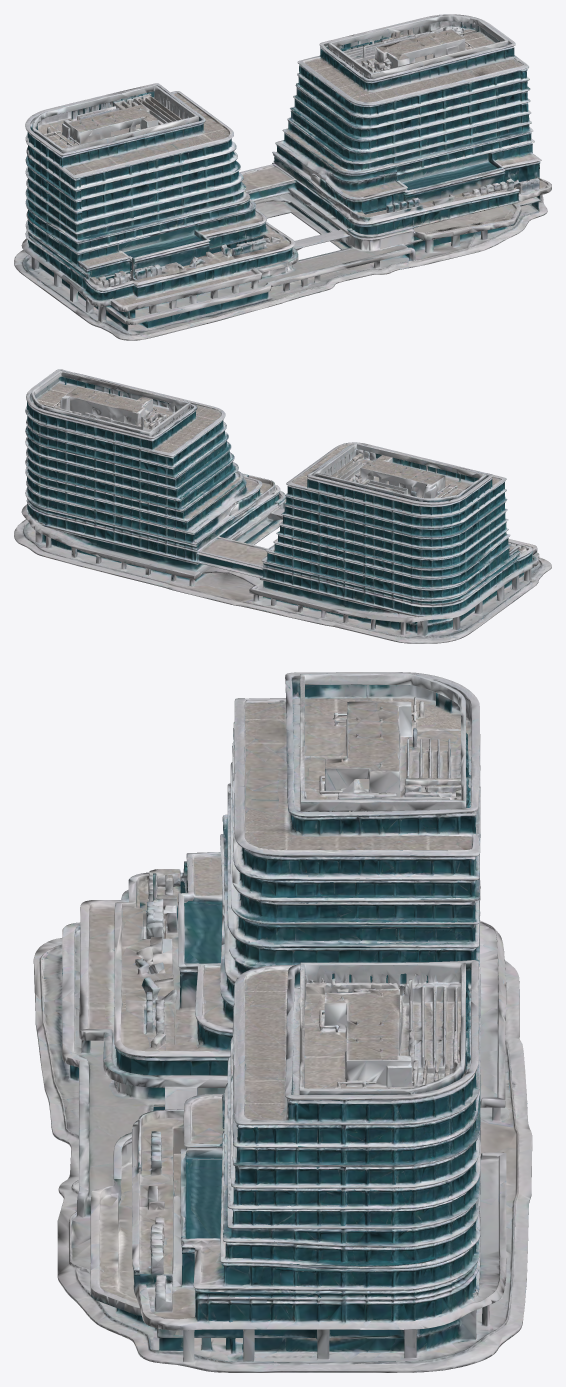
Rendered from twin-terrace.glb.
The picture shows the model from 3 angles, top to bottom: view 1: azimuth 30°, elevation 25°; view 2: azimuth 150°, elevation 25°; view 3: azimuth 270°, elevation 25°; orthographic projection. The views are drawn at different scales.
Size of the model in its own units: 1.9 by 0.5568 by 0.9122.
1 material, 1 textured.
